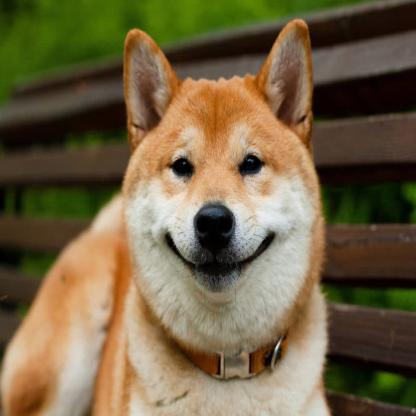Siba-ny: (4, 21, 338, 415)
